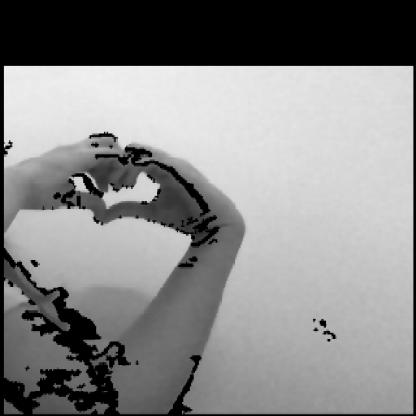heart: (28, 111, 244, 260)
